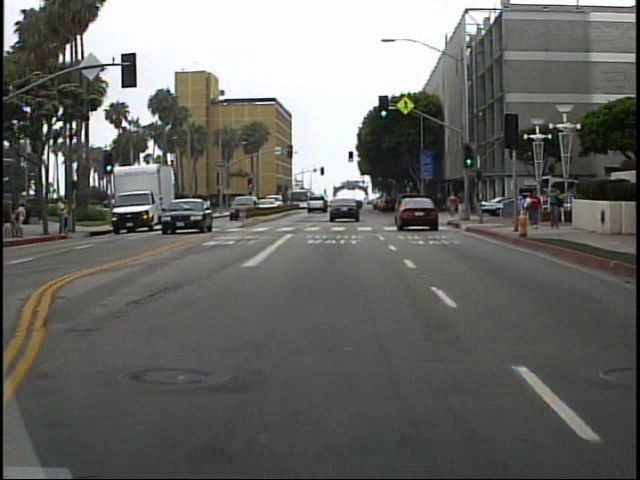person: (57, 193, 72, 238), (444, 192, 460, 218)
